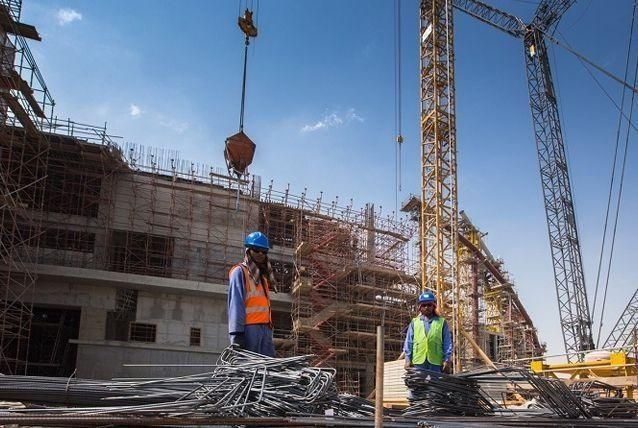blue: (241, 232, 272, 264), (416, 290, 436, 316)
